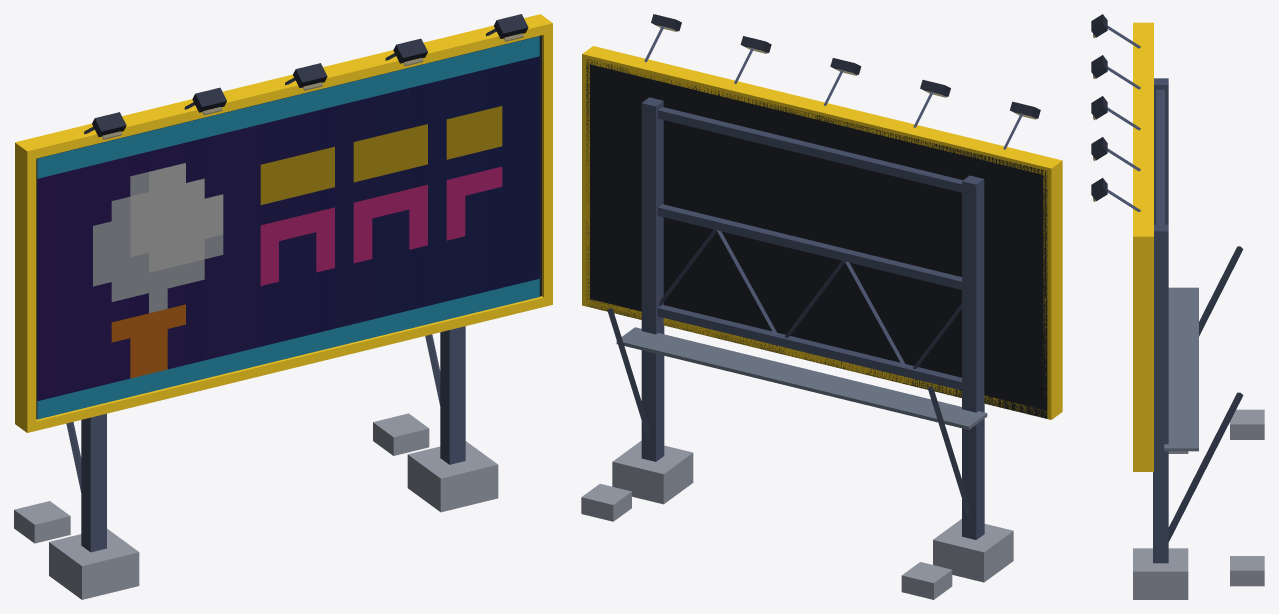
File: billboard.glb
3 views of the same model, side by side, from view 1: azimuth 30°, elevation 25°; view 2: azimuth 150°, elevation 25°; view 3: azimuth 270°, elevation 25° (orthographic). The views are drawn at different scales.
Visible parts, largest first — view 1: billboard; view 2: billboard; view 3: billboard.
Part boxes in pixels (box(x1,y1,x2,y2)): billboard: box(14, 14, 552, 599); billboard: box(581, 14, 1062, 599); billboard: box(1091, 14, 1264, 599).
Bounding box in the file's own units: 14.65 × 13.22 × 5.01.
2 materials, 2 textured.
